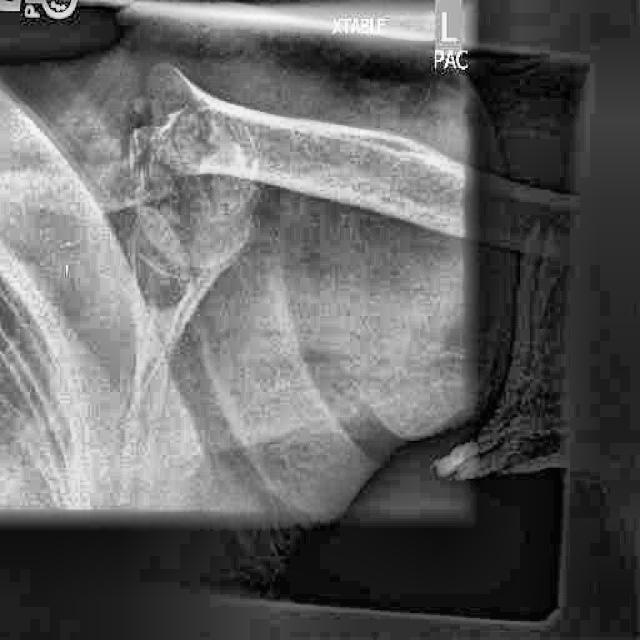shoulder fracture: (111, 99, 203, 192), (319, 106, 432, 177)
